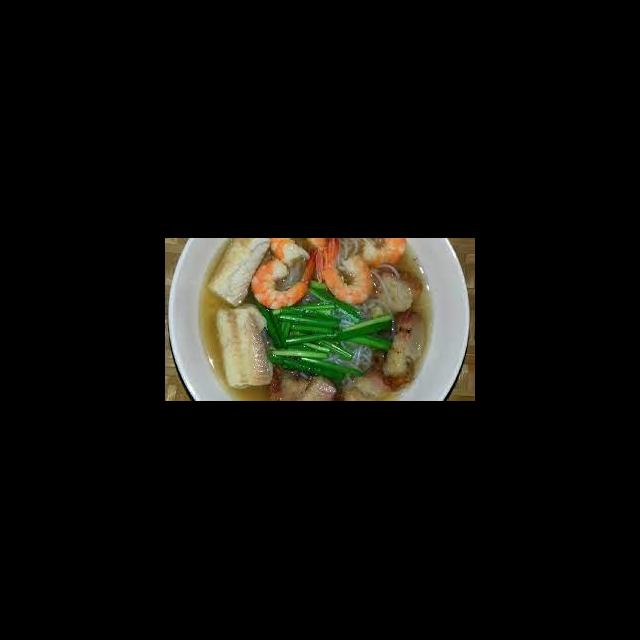bun: (319, 308, 376, 374)
bun ca: (173, 255, 443, 402)
ca: (208, 304, 277, 392), (205, 240, 274, 310)
tom: (246, 245, 320, 312), (316, 240, 377, 308), (267, 240, 334, 268), (360, 240, 411, 272)
